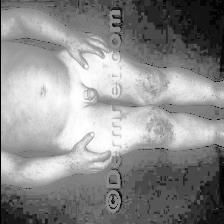Non-Cancerous Skin Condition: (146, 114, 176, 144), (6, 17, 26, 39), (64, 151, 78, 173), (210, 86, 224, 101), (148, 88, 156, 96), (163, 82, 170, 88)
